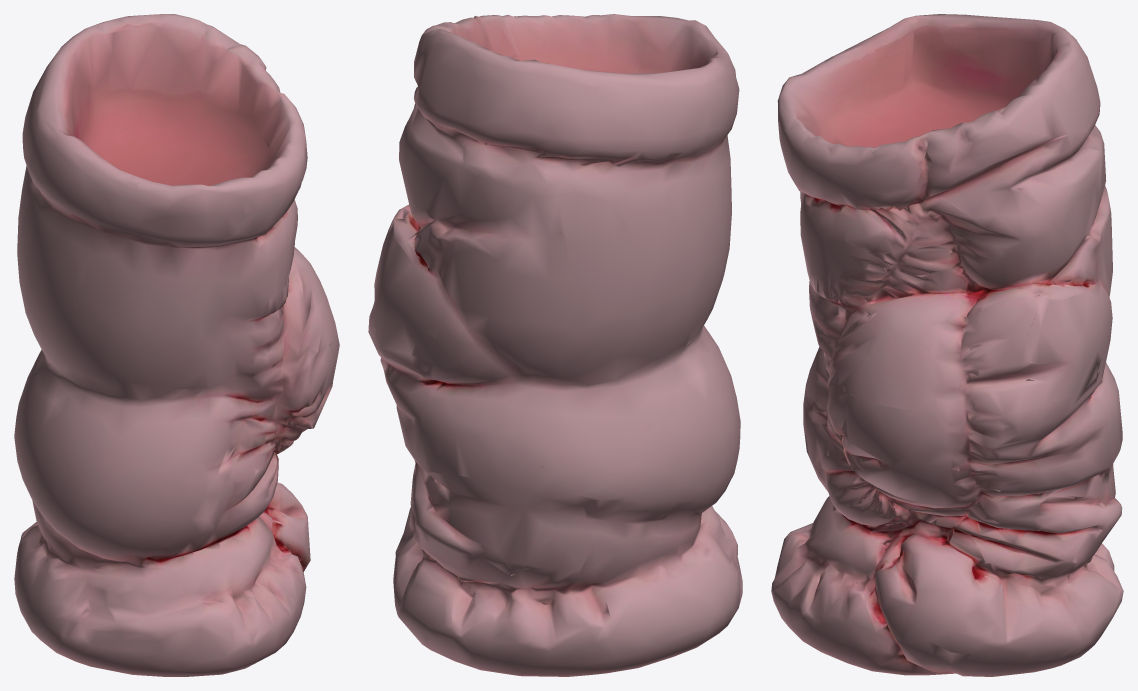
File: 02_6_gs_pv_ii_l_vase.glb
3 views of the same model, side by side, from view 1: azimuth 30°, elevation 25°; view 2: azimuth 150°, elevation 25°; view 3: azimuth 270°, elevation 25° (orthographic). The views are drawn at different scales.
Parts seen in each view (by area): view 1: tripo_material_c7cd4509-8fca-4b43-8605-26b4f7c16b58; view 2: tripo_material_c7cd4509-8fca-4b43-8605-26b4f7c16b58; view 3: tripo_material_c7cd4509-8fca-4b43-8605-26b4f7c16b58.
Boxes of the visible parts, <box> form: tripo_material_c7cd4509-8fca-4b43-8605-26b4f7c16b58: <box>14,14,339,676</box>; tripo_material_c7cd4509-8fca-4b43-8605-26b4f7c16b58: <box>368,14,742,676</box>; tripo_material_c7cd4509-8fca-4b43-8605-26b4f7c16b58: <box>771,14,1123,676</box>.
Size of the model in its own units: 0.2402 by 0.4401 by 0.2404.
1 material, 1 textured.
